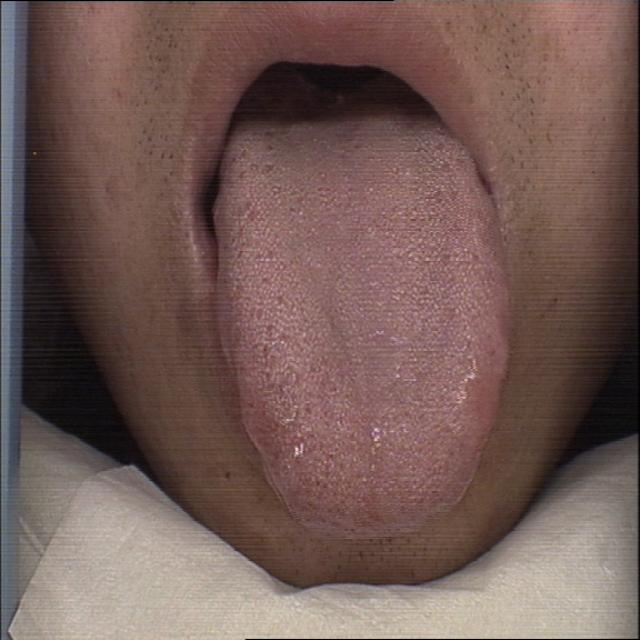tongue: (210, 107, 514, 551)
